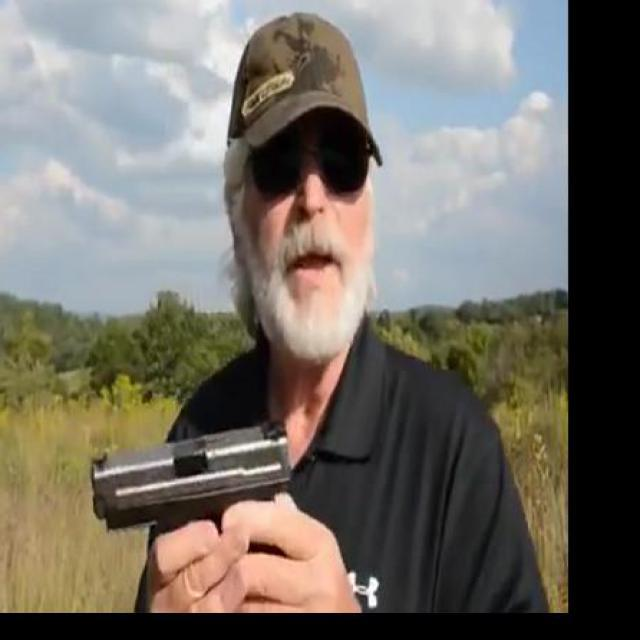Gun: (89, 414, 304, 610)
